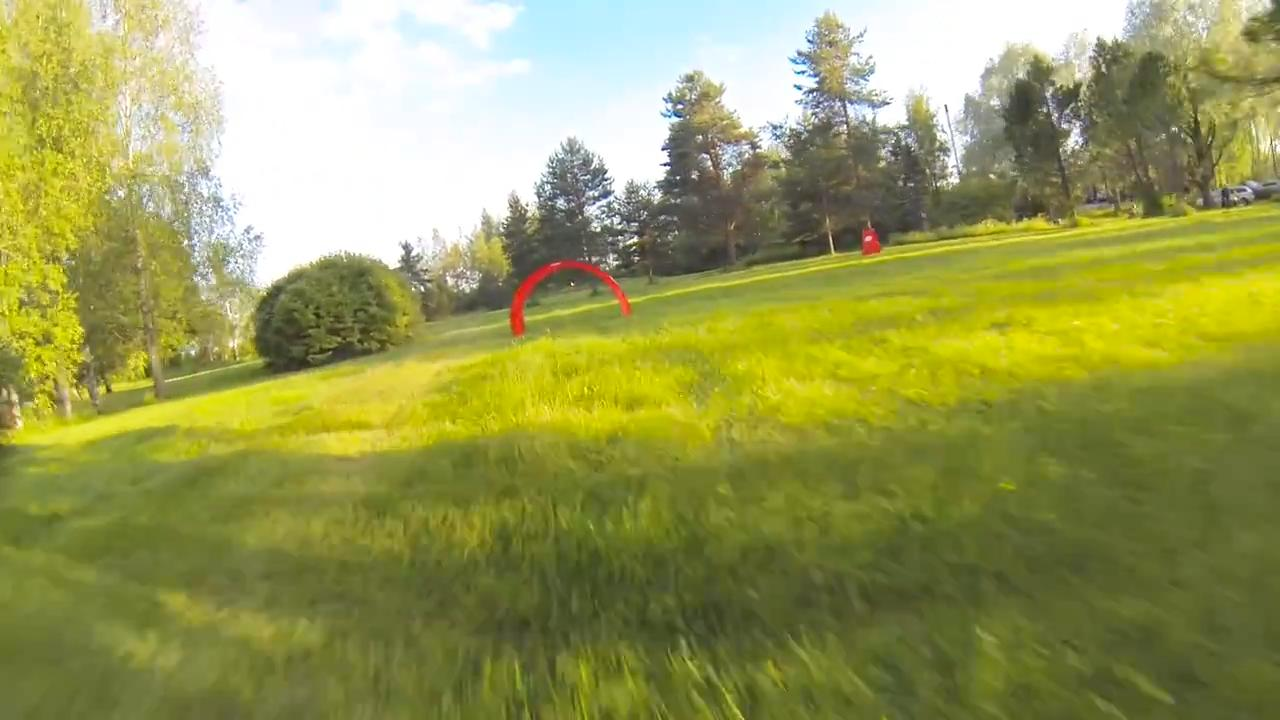gate: (506, 258, 638, 337)
